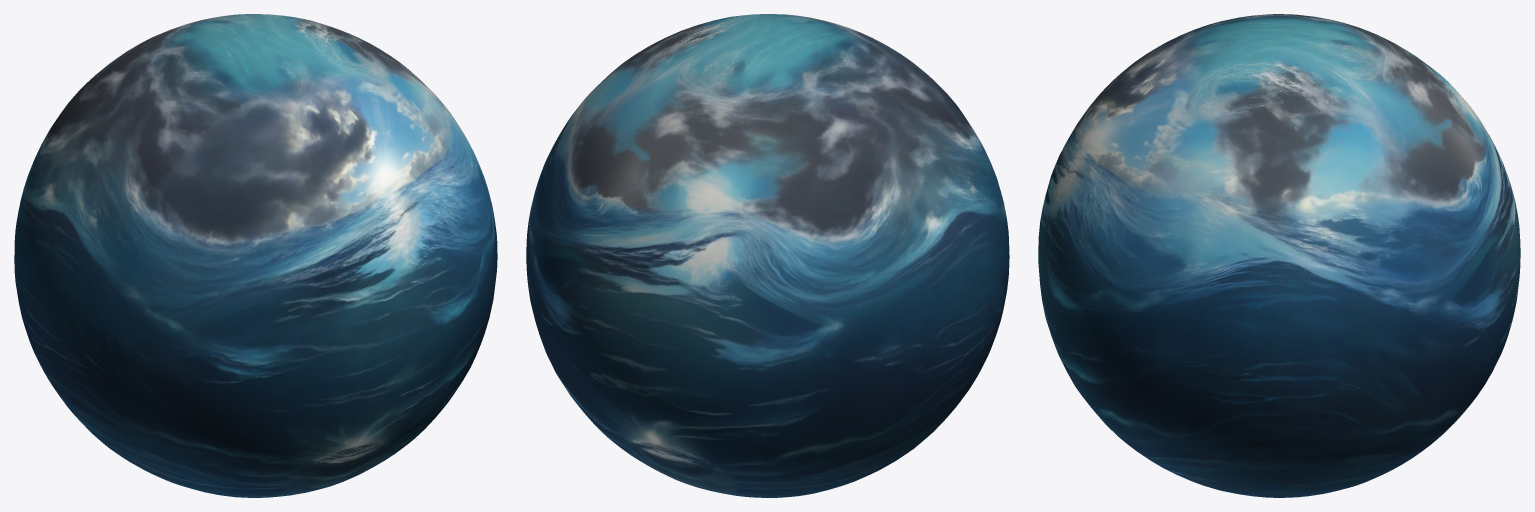
The model's file is water_planet_2.glb.
3 views of the same model, side by side, from view 1: azimuth 30°, elevation 25°; view 2: azimuth 150°, elevation 25°; view 3: azimuth 270°, elevation 25° (orthographic).
Parts seen in each view (by area): view 1: Mesh_0.045; view 2: Mesh_0.045; view 3: Mesh_0.045.
Boxes of the visible parts, x1,y1,x2,y2 form: Mesh_0.045: (14,14,497,497); Mesh_0.045: (526,14,1009,497); Mesh_0.045: (1038,14,1520,497).
Bounding box in the file's own units: 2 × 2 × 2.
Materials: 1 (1 with a texture image).
